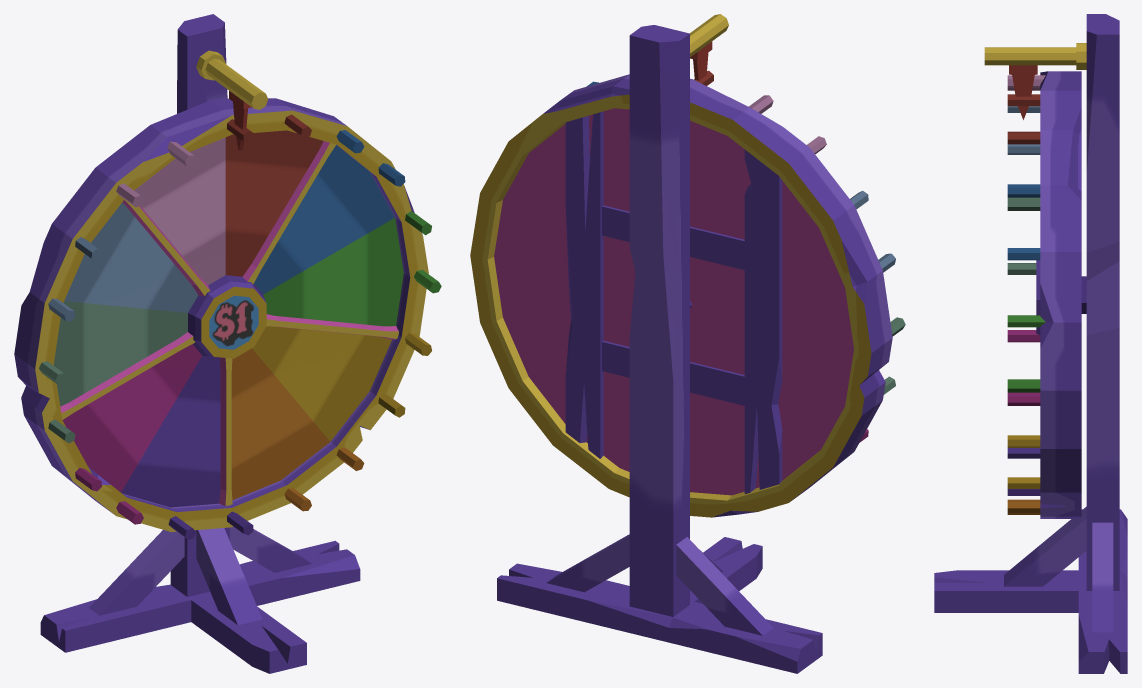
File: wheel.fbx
3 renders of one model, left to right at view 1: azimuth 30°, elevation 25°; view 2: azimuth 150°, elevation 25°; view 3: azimuth 270°, elevation 25°, orthographic. The views are drawn at different scales.
Parts seen in each view (by area): view 1: SM_Prop_Prize_Wheel_01_Wheel_01, Wheel, SM_Prop_Prize_Wheel_01_Ticker_01; view 2: SM_Prop_Prize_Wheel_01_Wheel_01, Wheel, SM_Prop_Prize_Wheel_01_Ticker_01; view 3: Wheel, SM_Prop_Prize_Wheel_01_Wheel_01, SM_Prop_Prize_Wheel_01_Ticker_01.
Part boxes in pixels (x1,y1,x2,y2): SM_Prop_Prize_Wheel_01_Wheel_01: (14,98,441,539); Wheel: (40,14,360,673); SM_Prop_Prize_Wheel_01_Ticker_01: (196,50,268,150); SM_Prop_Prize_Wheel_01_Wheel_01: (470,70,905,517); Wheel: (497,25,822,673); SM_Prop_Prize_Wheel_01_Ticker_01: (690,14,728,80); Wheel: (934,14,1127,673); SM_Prop_Prize_Wheel_01_Wheel_01: (1007,71,1081,518); SM_Prop_Prize_Wheel_01_Ticker_01: (984,43,1086,119).
Size of the model in its own units: 178 by 251 by 76.29.
